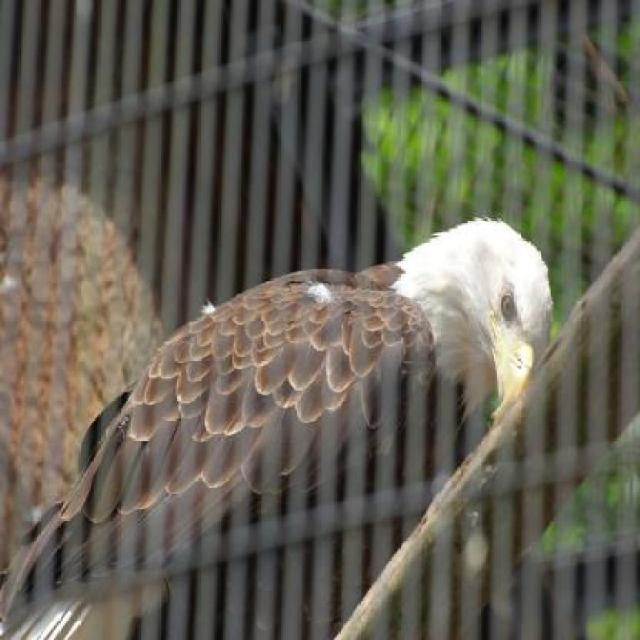Eagle: (0, 210, 560, 638)
